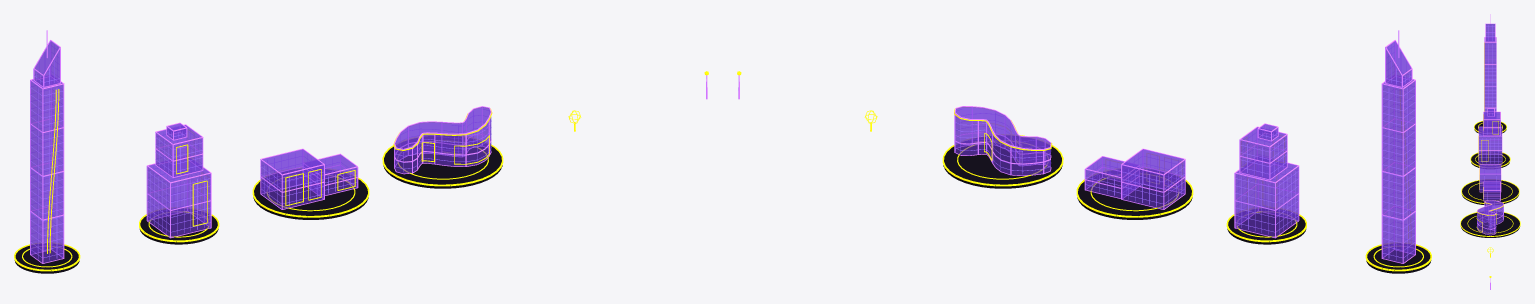
Rendered from kit.glb.
3 views of the same model, side by side, from view 1: azimuth 30°, elevation 25°; view 2: azimuth 150°, elevation 25°; view 3: azimuth 270°, elevation 25° (orthographic). The views are drawn at different scales.
Visible parts, largest first — view 1: Kit_TallTower_Glass, Kit_MediumBlock_Glass, Kit_CurvyBuilding_Glass, Kit_WideBlock_Glass, Kit_CurvyBuilding_Platform, Kit_WideBlock_Platform, Kit_TallTower_Edges, Kit_MediumBlock_Platform, Kit_MediumBlock_Edges, Kit_TallTower_Windows, Kit_MediumBlock_Windows, Kit_CurvyBuilding_Edges (+8 smaller); view 2: Kit_TallTower_Glass, Kit_MediumBlock_Glass, Kit_WideBlock_Glass, Kit_CurvyBuilding_Glass, Kit_CurvyBuilding_Platform, Kit_WideBlock_Platform, Kit_TallTower_Edges, Kit_MediumBlock_Platform, Kit_TallTower_Windows, Kit_MediumBlock_Edges, Kit_MediumBlock_Windows, Kit_CurvyBuilding_Edges (+6 smaller); view 3: Kit_MediumBlock_Glass, Kit_TallTower_Glass, Kit_CurvyBuilding_Platform, Kit_WideBlock_Platform, Kit_WideBlock_Glass, Kit_CurvyBuilding_Glass, Kit_MediumBlock_Platform, Kit_MediumBlock_Edges, Kit_TallTower_Windows, Kit_TallTower_Edges, Kit_MediumBlock_Windows, Kit_CurvyBuilding_Edges (+11 smaller).
Boxes of the visible parts, bbox=[...] form: Kit_TallTower_Glass: bbox=[30, 41, 63, 262]; Kit_MediumBlock_Glass: bbox=[147, 123, 210, 237]; Kit_CurvyBuilding_Glass: bbox=[394, 107, 491, 173]; Kit_WideBlock_Glass: bbox=[261, 149, 357, 208]; Kit_CurvyBuilding_Platform: bbox=[383, 136, 502, 188]; Kit_WideBlock_Platform: bbox=[253, 169, 368, 219]; Kit_TallTower_Edges: bbox=[30, 30, 64, 263]; Kit_MediumBlock_Platform: bbox=[139, 209, 218, 244]; Kit_MediumBlock_Edges: bbox=[146, 122, 211, 238]; Kit_TallTower_Windows: bbox=[30, 59, 63, 259]; Kit_MediumBlock_Windows: bbox=[147, 130, 210, 234]; Kit_CurvyBuilding_Edges: bbox=[394, 106, 491, 174]; Kit_TallTower_Glass: bbox=[1382, 41, 1415, 262]; Kit_MediumBlock_Glass: bbox=[1235, 124, 1298, 237]; Kit_WideBlock_Glass: bbox=[1085, 149, 1184, 208]; Kit_CurvyBuilding_Glass: bbox=[955, 106, 1050, 175]; Kit_CurvyBuilding_Platform: bbox=[943, 136, 1062, 188]; Kit_WideBlock_Platform: bbox=[1077, 169, 1192, 219]; Kit_TallTower_Edges: bbox=[1381, 30, 1415, 263]; Kit_MediumBlock_Platform: bbox=[1227, 209, 1306, 244]; Kit_TallTower_Windows: bbox=[1382, 59, 1415, 259]; Kit_MediumBlock_Edges: bbox=[1234, 123, 1299, 238]; Kit_MediumBlock_Windows: bbox=[1235, 131, 1298, 234]; Kit_CurvyBuilding_Edges: bbox=[954, 106, 1051, 175]; Kit_MediumBlock_Glass: bbox=[1479, 108, 1501, 164]; Kit_TallTower_Glass: bbox=[1484, 24, 1496, 111]; Kit_CurvyBuilding_Platform: bbox=[1461, 212, 1519, 237]; Kit_WideBlock_Platform: bbox=[1462, 180, 1518, 204]; Kit_WideBlock_Glass: bbox=[1480, 164, 1500, 200]; Kit_CurvyBuilding_Glass: bbox=[1477, 200, 1503, 234]; Kit_MediumBlock_Platform: bbox=[1471, 152, 1509, 168]; Kit_MediumBlock_Edges: bbox=[1478, 108, 1502, 163]; Kit_TallTower_Windows: bbox=[1485, 25, 1495, 108]; Kit_TallTower_Edges: bbox=[1484, 14, 1496, 111]; Kit_MediumBlock_Windows: bbox=[1479, 113, 1501, 163]; Kit_CurvyBuilding_Edges: bbox=[1477, 200, 1503, 235].
Bounding box in the file's own units: 78.48 × 24.95 × 11.94.
